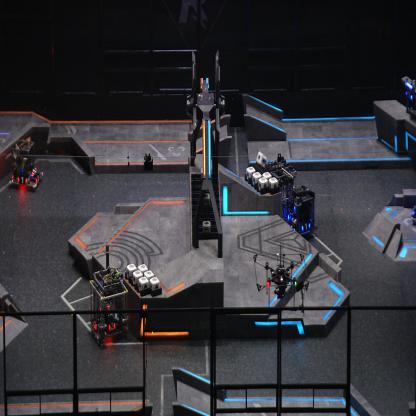car: (90, 266, 130, 347), (262, 154, 297, 227), (7, 138, 44, 190), (288, 186, 318, 237)
